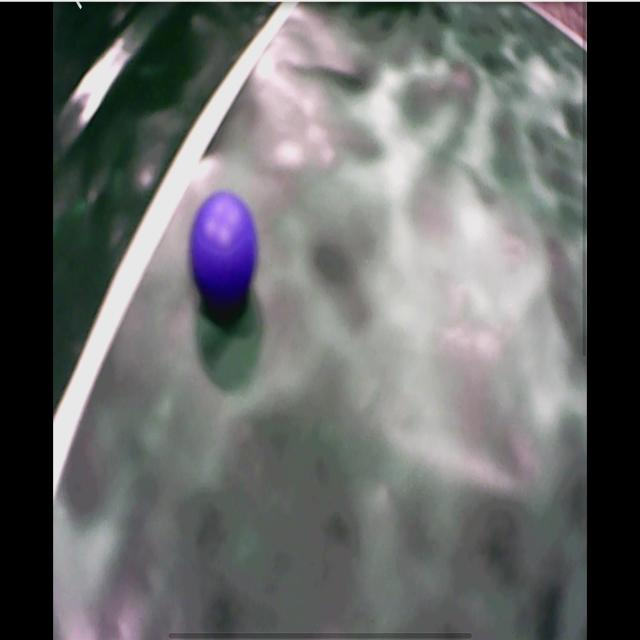ball: (193, 196, 258, 301)
